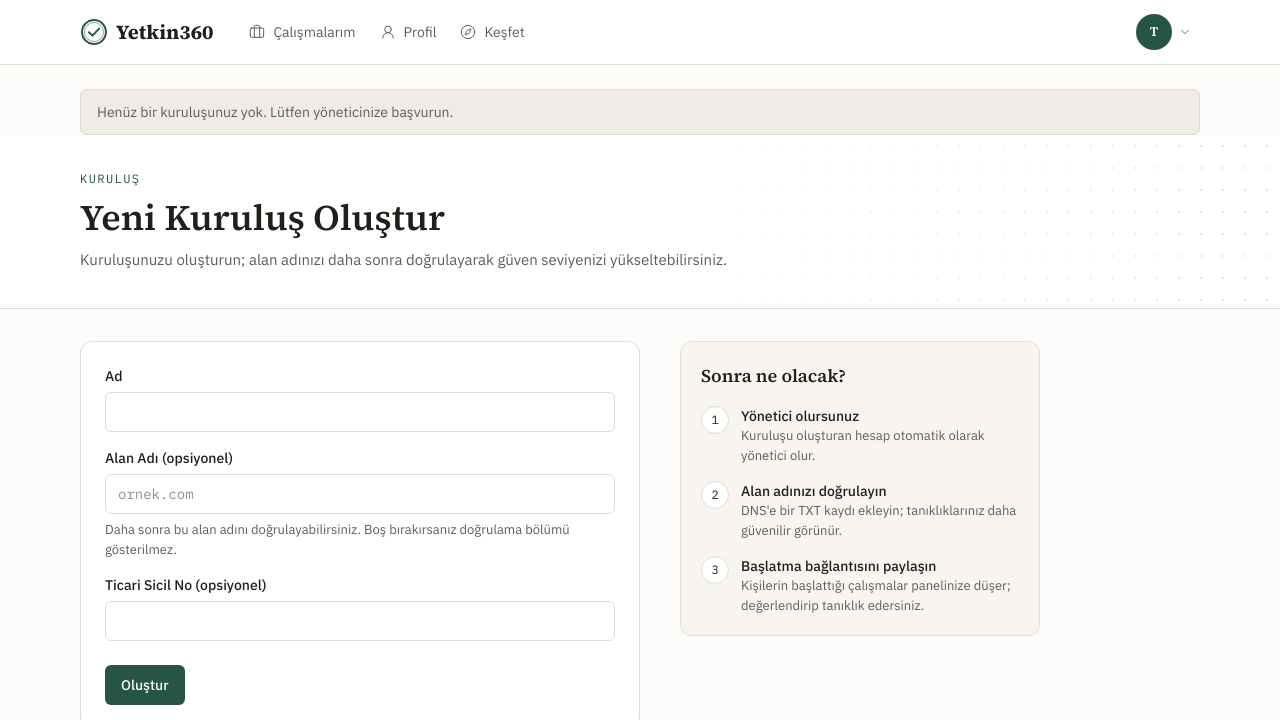
Test case: KurulusOlusturPage (/kurulus/olustur) › 422 VALIDATION_ERROR → doğrulama hatası mesajı gösterilir
The width and height of the screenshot is (1280, 720).
Type "x" into the field labelled "Ad".
click(360, 412); type("x")  # box [105,392,615,432]
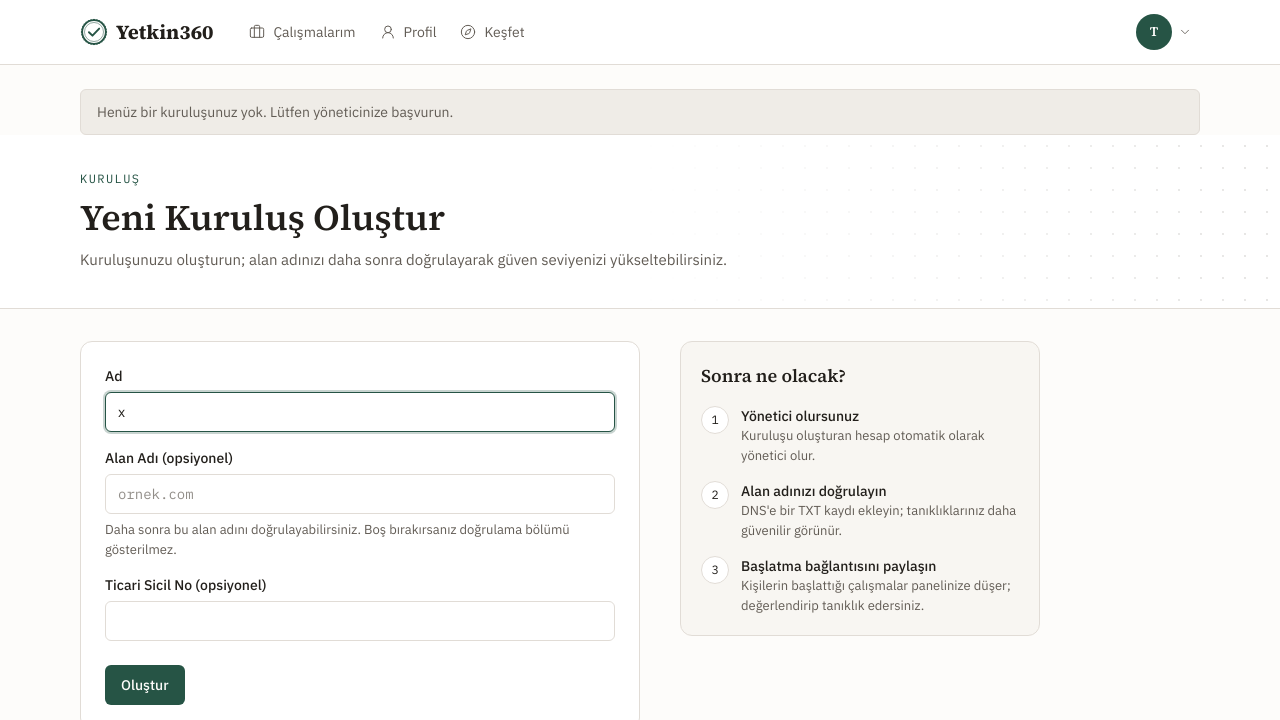
Click the button "Oluştur".
click(145, 685)  # box [105,665,185,705]
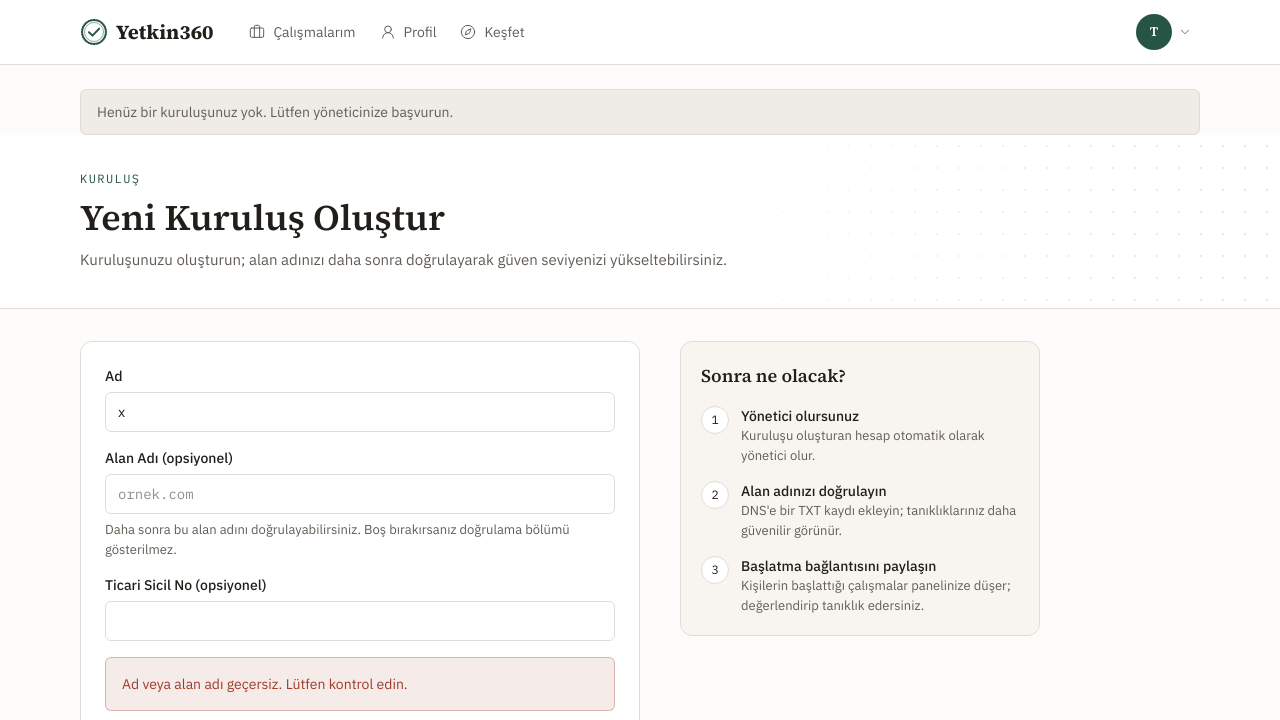
Now the text "Ad veya alan adı geçersiz. Lütfen kontrol edin." is shown, box [105,657,615,711]
